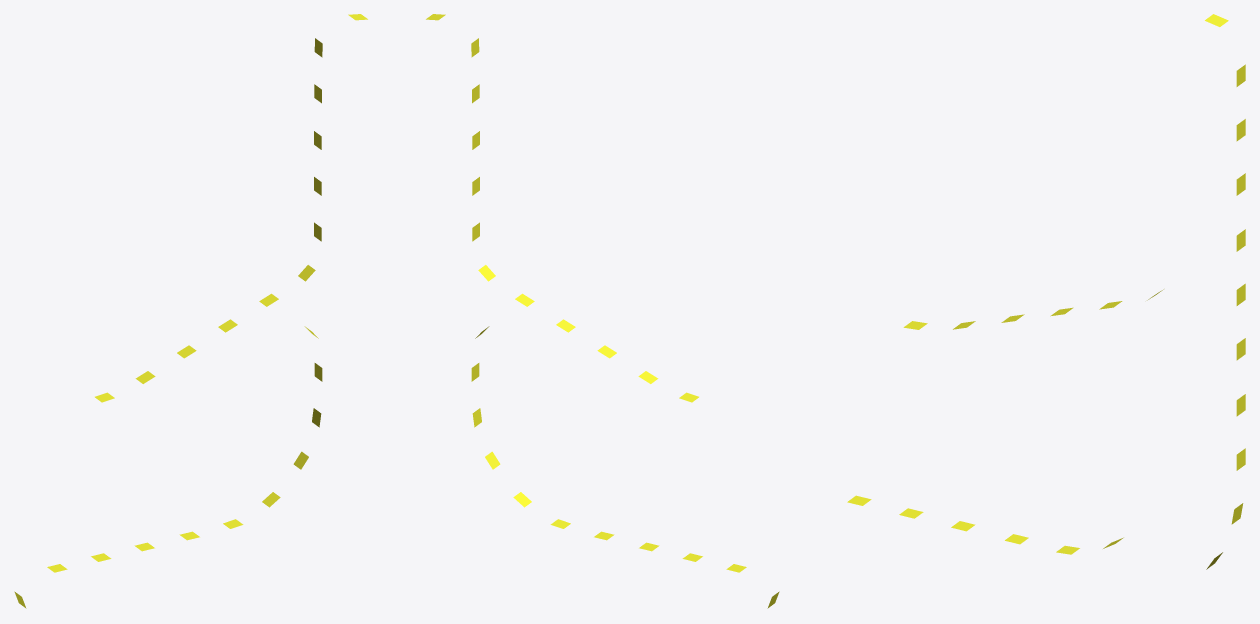
Rendered from LED.glb.
3 renders of one model, left to right at view 1: azimuth 30°, elevation 25°; view 2: azimuth 150°, elevation 25°; view 3: azimuth 330°, elevation 25°, orthographic. The views are drawn at different scales.
Parts seen in each view (by area): view 1: LED; view 2: LED; view 3: LED.
Part boxes in pixels (<box>): LED: <box>14,14,367,608</box>; LED: <box>426,14,779,608</box>; LED: <box>847,14,1245,569</box>.
Bounding box in the file's own units: 34.02 × 46.66 × 1.25.
